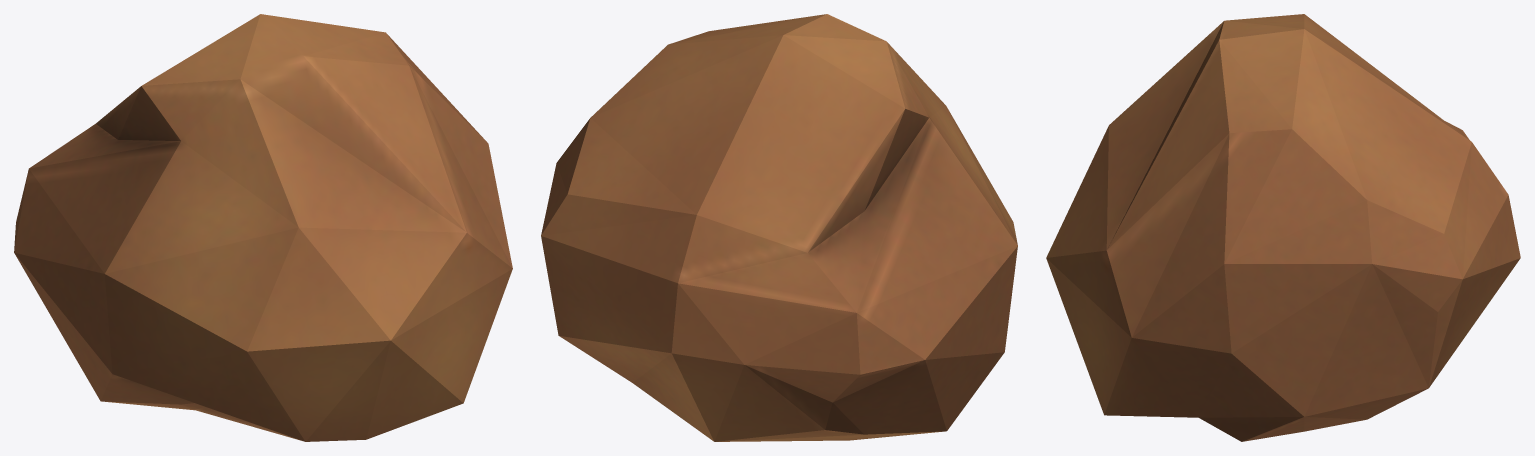
The model's file is stone2.fbx.
3 renders of one model, left to right at view 1: azimuth 30°, elevation 25°; view 2: azimuth 150°, elevation 25°; view 3: azimuth 270°, elevation 25°, orthographic. The views are drawn at different scales.
Parts seen in each view (by area): view 1: polySurface34; view 2: polySurface34; view 3: polySurface34.
Part boxes in pixels (box(x1,y1,x2,y2)): polySurface34: box(14, 14, 512, 441); polySurface34: box(541, 14, 1017, 441); polySurface34: box(1046, 14, 1520, 441).
Bounding box in the file's own units: 0.0964 × 0.0923 × 0.1025.
